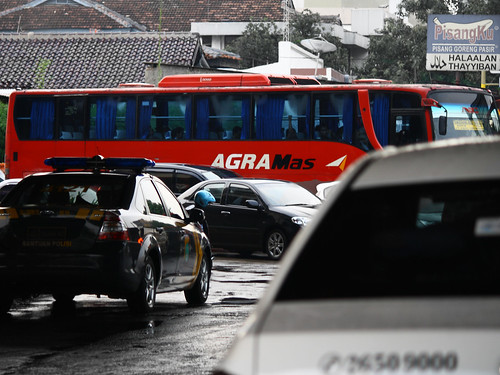building: (14, 1, 275, 89)
bus: (1, 79, 500, 174)
car: (180, 177, 319, 261)
police car: (1, 159, 219, 302)
sign: (425, 15, 496, 74)
